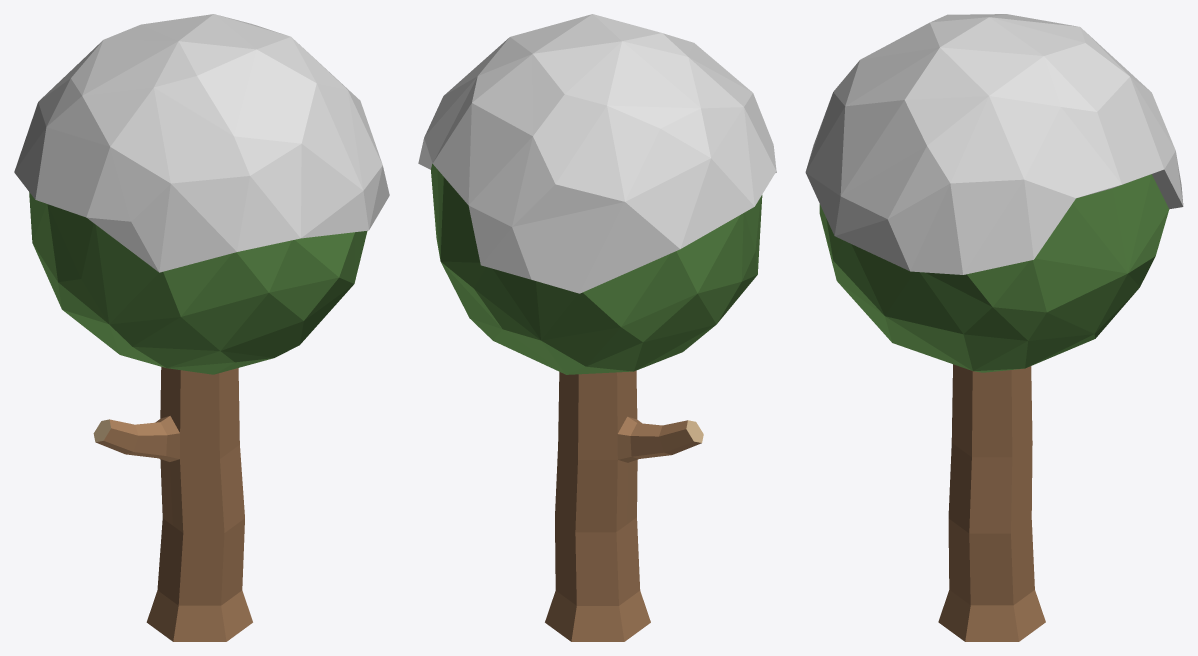
The model's file is Tree_Fruit_Snow.fbx.
3 renders of one model, left to right at view 1: azimuth 30°, elevation 25°; view 2: azimuth 150°, elevation 25°; view 3: azimuth 270°, elevation 25°, orthographic.
Visible parts, largest first — view 1: Tree_Fruit_Snow; view 2: Tree_Fruit_Snow; view 3: Tree_Fruit_Snow.
Boxes of the visible parts, x1,y1,x2,y2 form: Tree_Fruit_Snow: [14, 14, 389, 641]; Tree_Fruit_Snow: [418, 14, 776, 641]; Tree_Fruit_Snow: [805, 14, 1183, 641].
Bounding box in the file's own units: 2.66 × 4.56 × 2.63.
